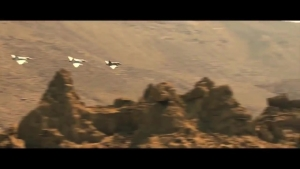flight: (66, 54, 88, 69), (10, 54, 36, 66), (103, 58, 124, 69)
